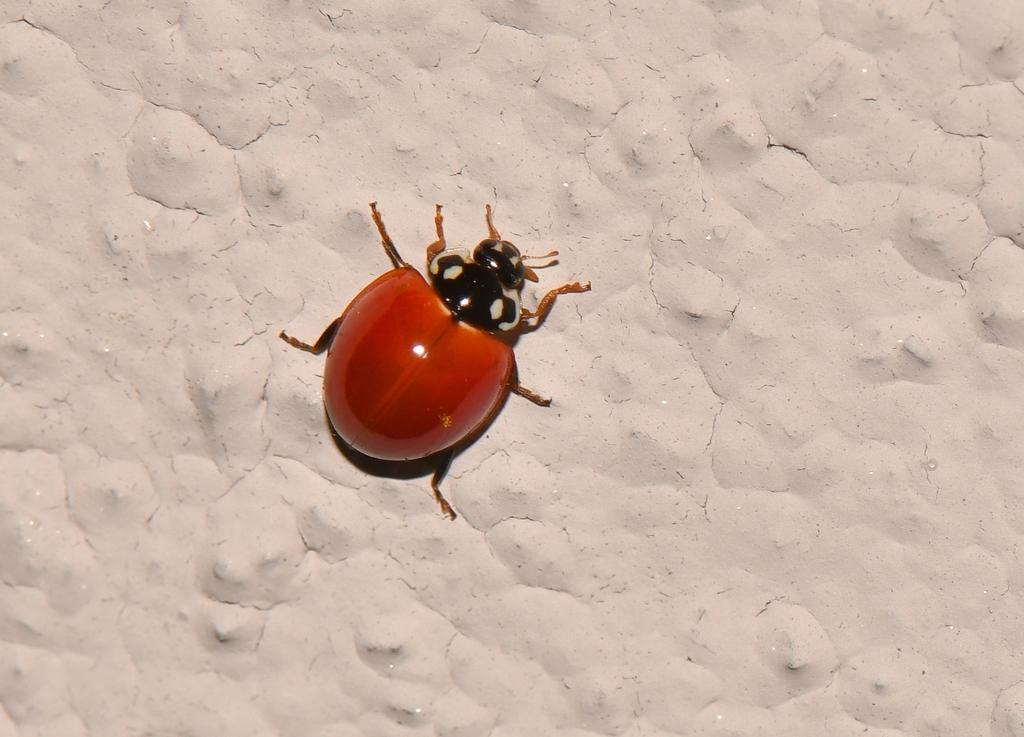ladybug: (277, 197, 599, 525)
